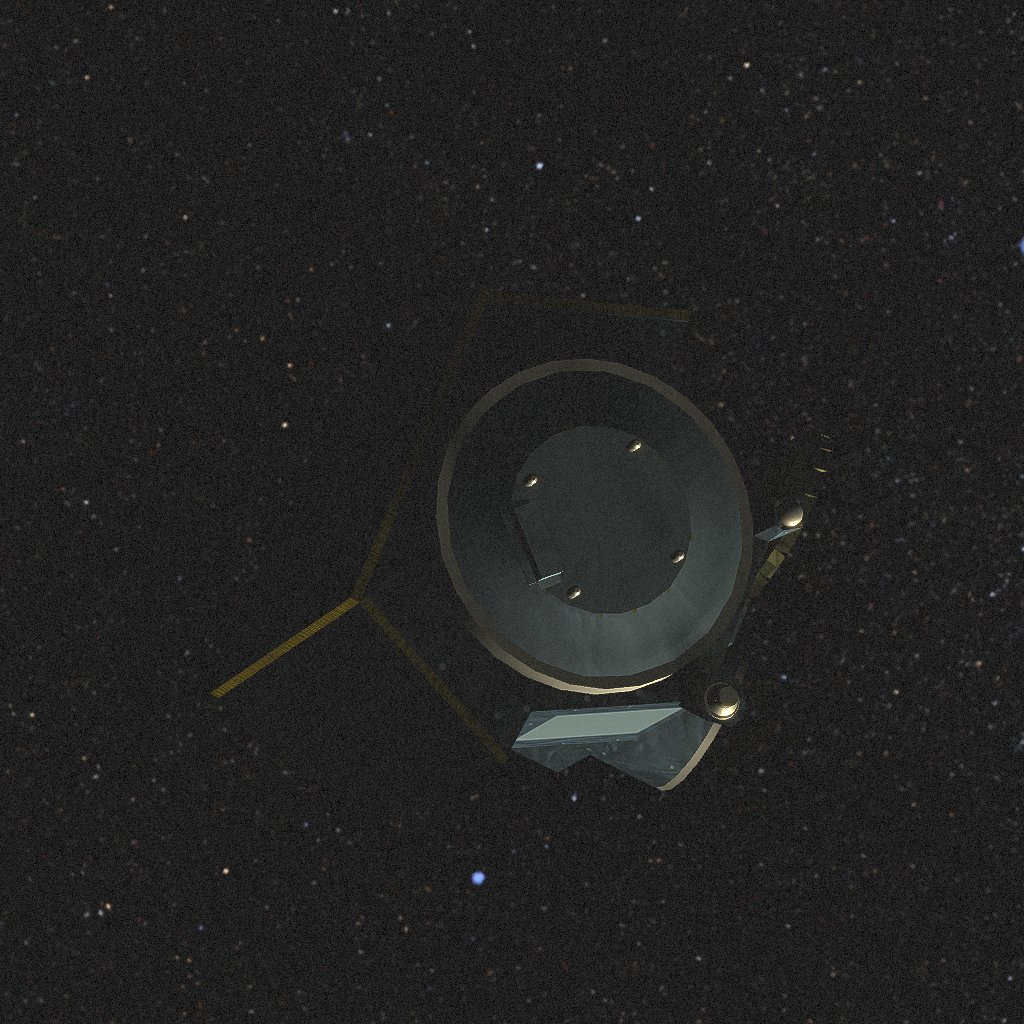cheops: (210, 287, 831, 823)
